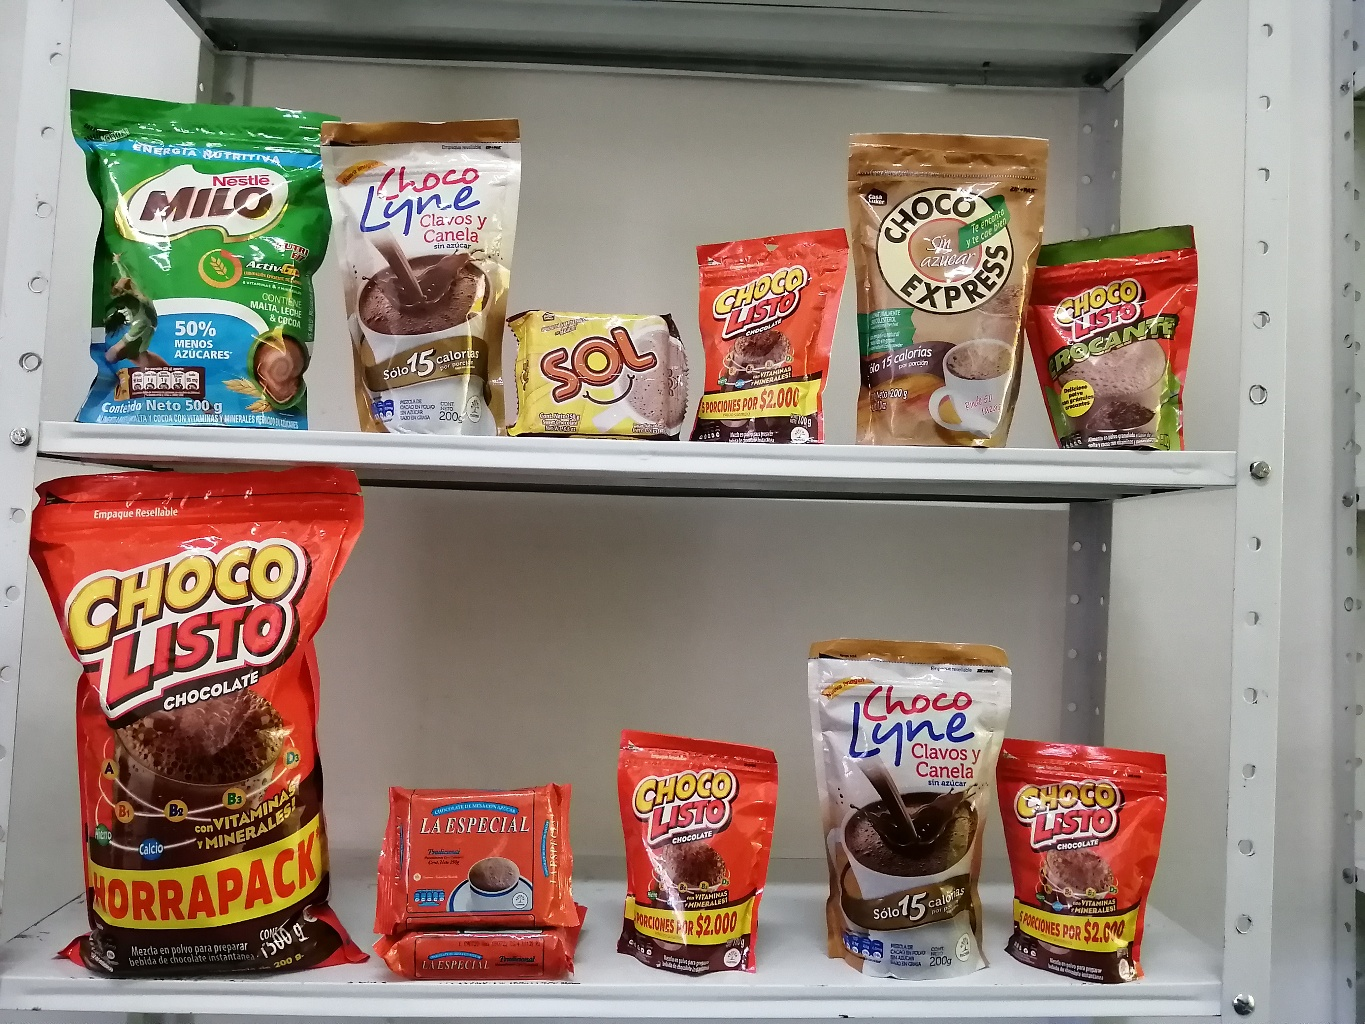COL0170102DYP10000: (1009, 231, 1198, 449)
COL0170103DYP1,500: (34, 472, 370, 975)
COL0170205DYP50000: (70, 85, 344, 425)
